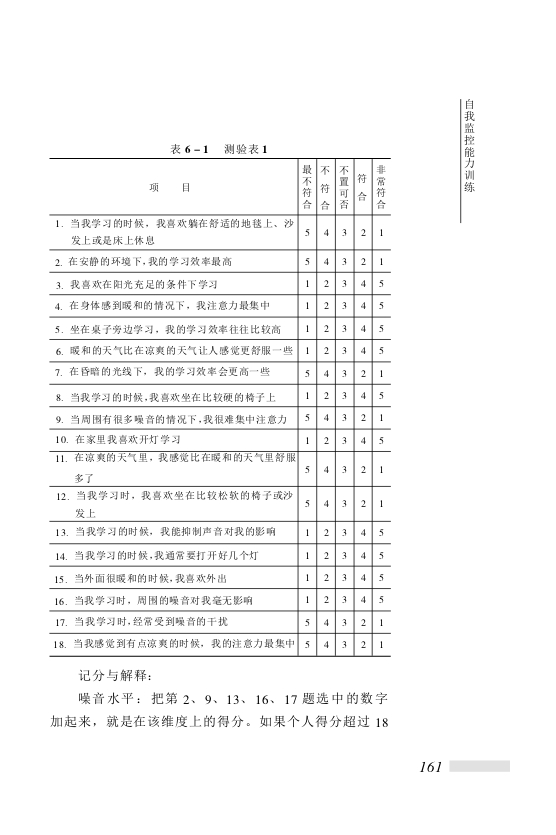table: (49, 157, 392, 656)
